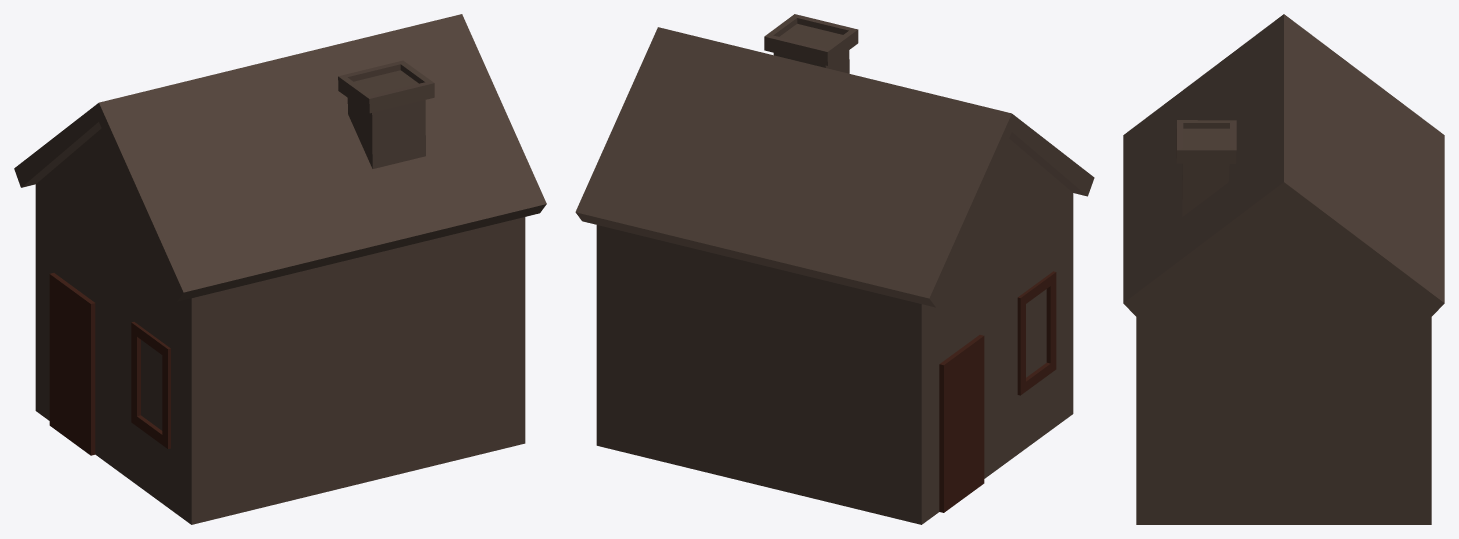
The model's file is House.FBX.
The picture shows the model from 3 angles, left to right: view 1: azimuth 30°, elevation 25°; view 2: azimuth 150°, elevation 25°; view 3: azimuth 270°, elevation 25°; orthographic projection. The views are drawn at different scales.
Parts seen in each view (by area): view 1: Box004; view 2: Box004; view 3: Box004.
Boxes of the visible parts, left/top/right/bottom form: Box004: left=14, top=14, right=546, bottom=524; Box004: left=575, top=14, right=1094, bottom=524; Box004: left=1123, top=14, right=1444, bottom=524.
Bounding box in the file's own units: 219 × 213 × 177.
